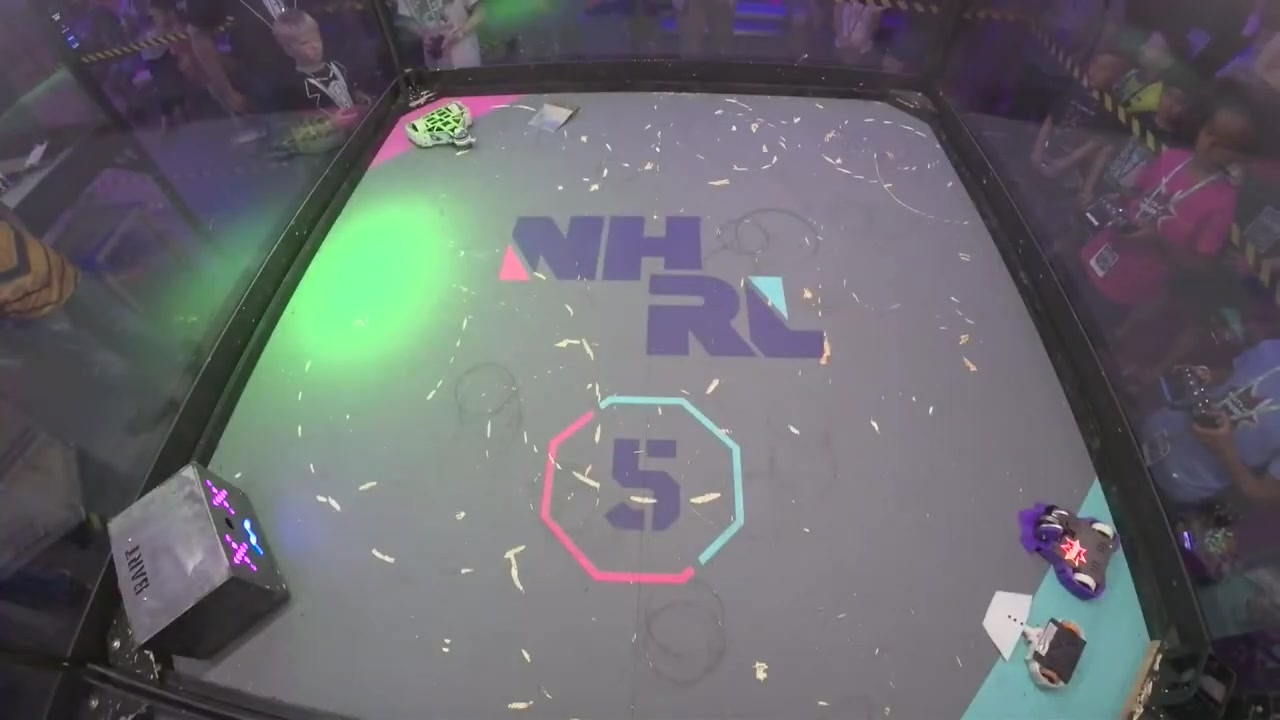combatbot: (1028, 504, 1120, 604), (399, 102, 479, 154)
housebot: (106, 461, 291, 665)
minibot: (986, 590, 1089, 692), (533, 101, 582, 133)
